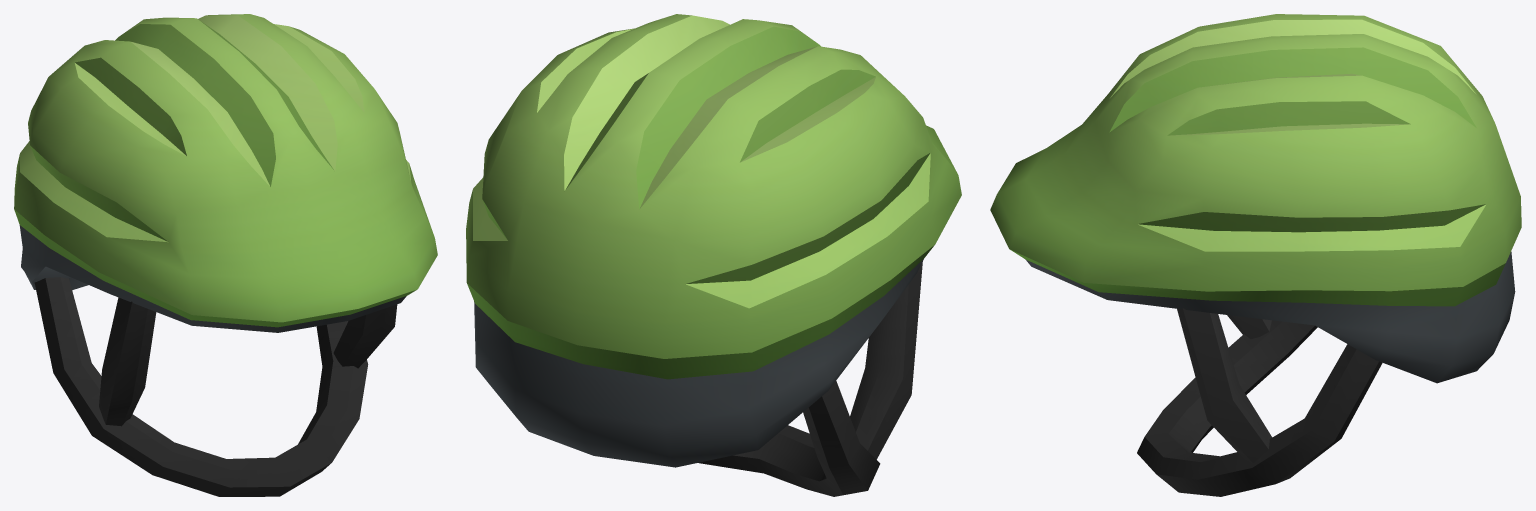
The model's file is bicycle_helmet.gltf.
The picture shows the model from 3 angles, left to right: view 1: azimuth 30°, elevation 25°; view 2: azimuth 150°, elevation 25°; view 3: azimuth 270°, elevation 25°; orthographic projection. The views are drawn at different scales.
Parts seen in each view (by area): view 1: bicycle_helmet; view 2: bicycle_helmet; view 3: bicycle_helmet.
Boxes of the visible parts, x1,y1,x2,y2 form: bicycle_helmet: [14, 14, 437, 496]; bicycle_helmet: [466, 14, 961, 496]; bicycle_helmet: [990, 14, 1521, 496].
Bounding box in the file's own units: 1.09 × 1.28 × 1.42.
1 material, 1 textured.
